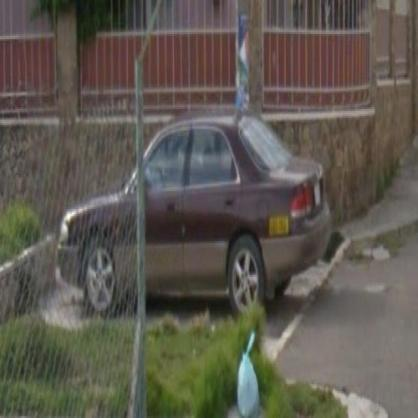car: (60, 113, 334, 318)
